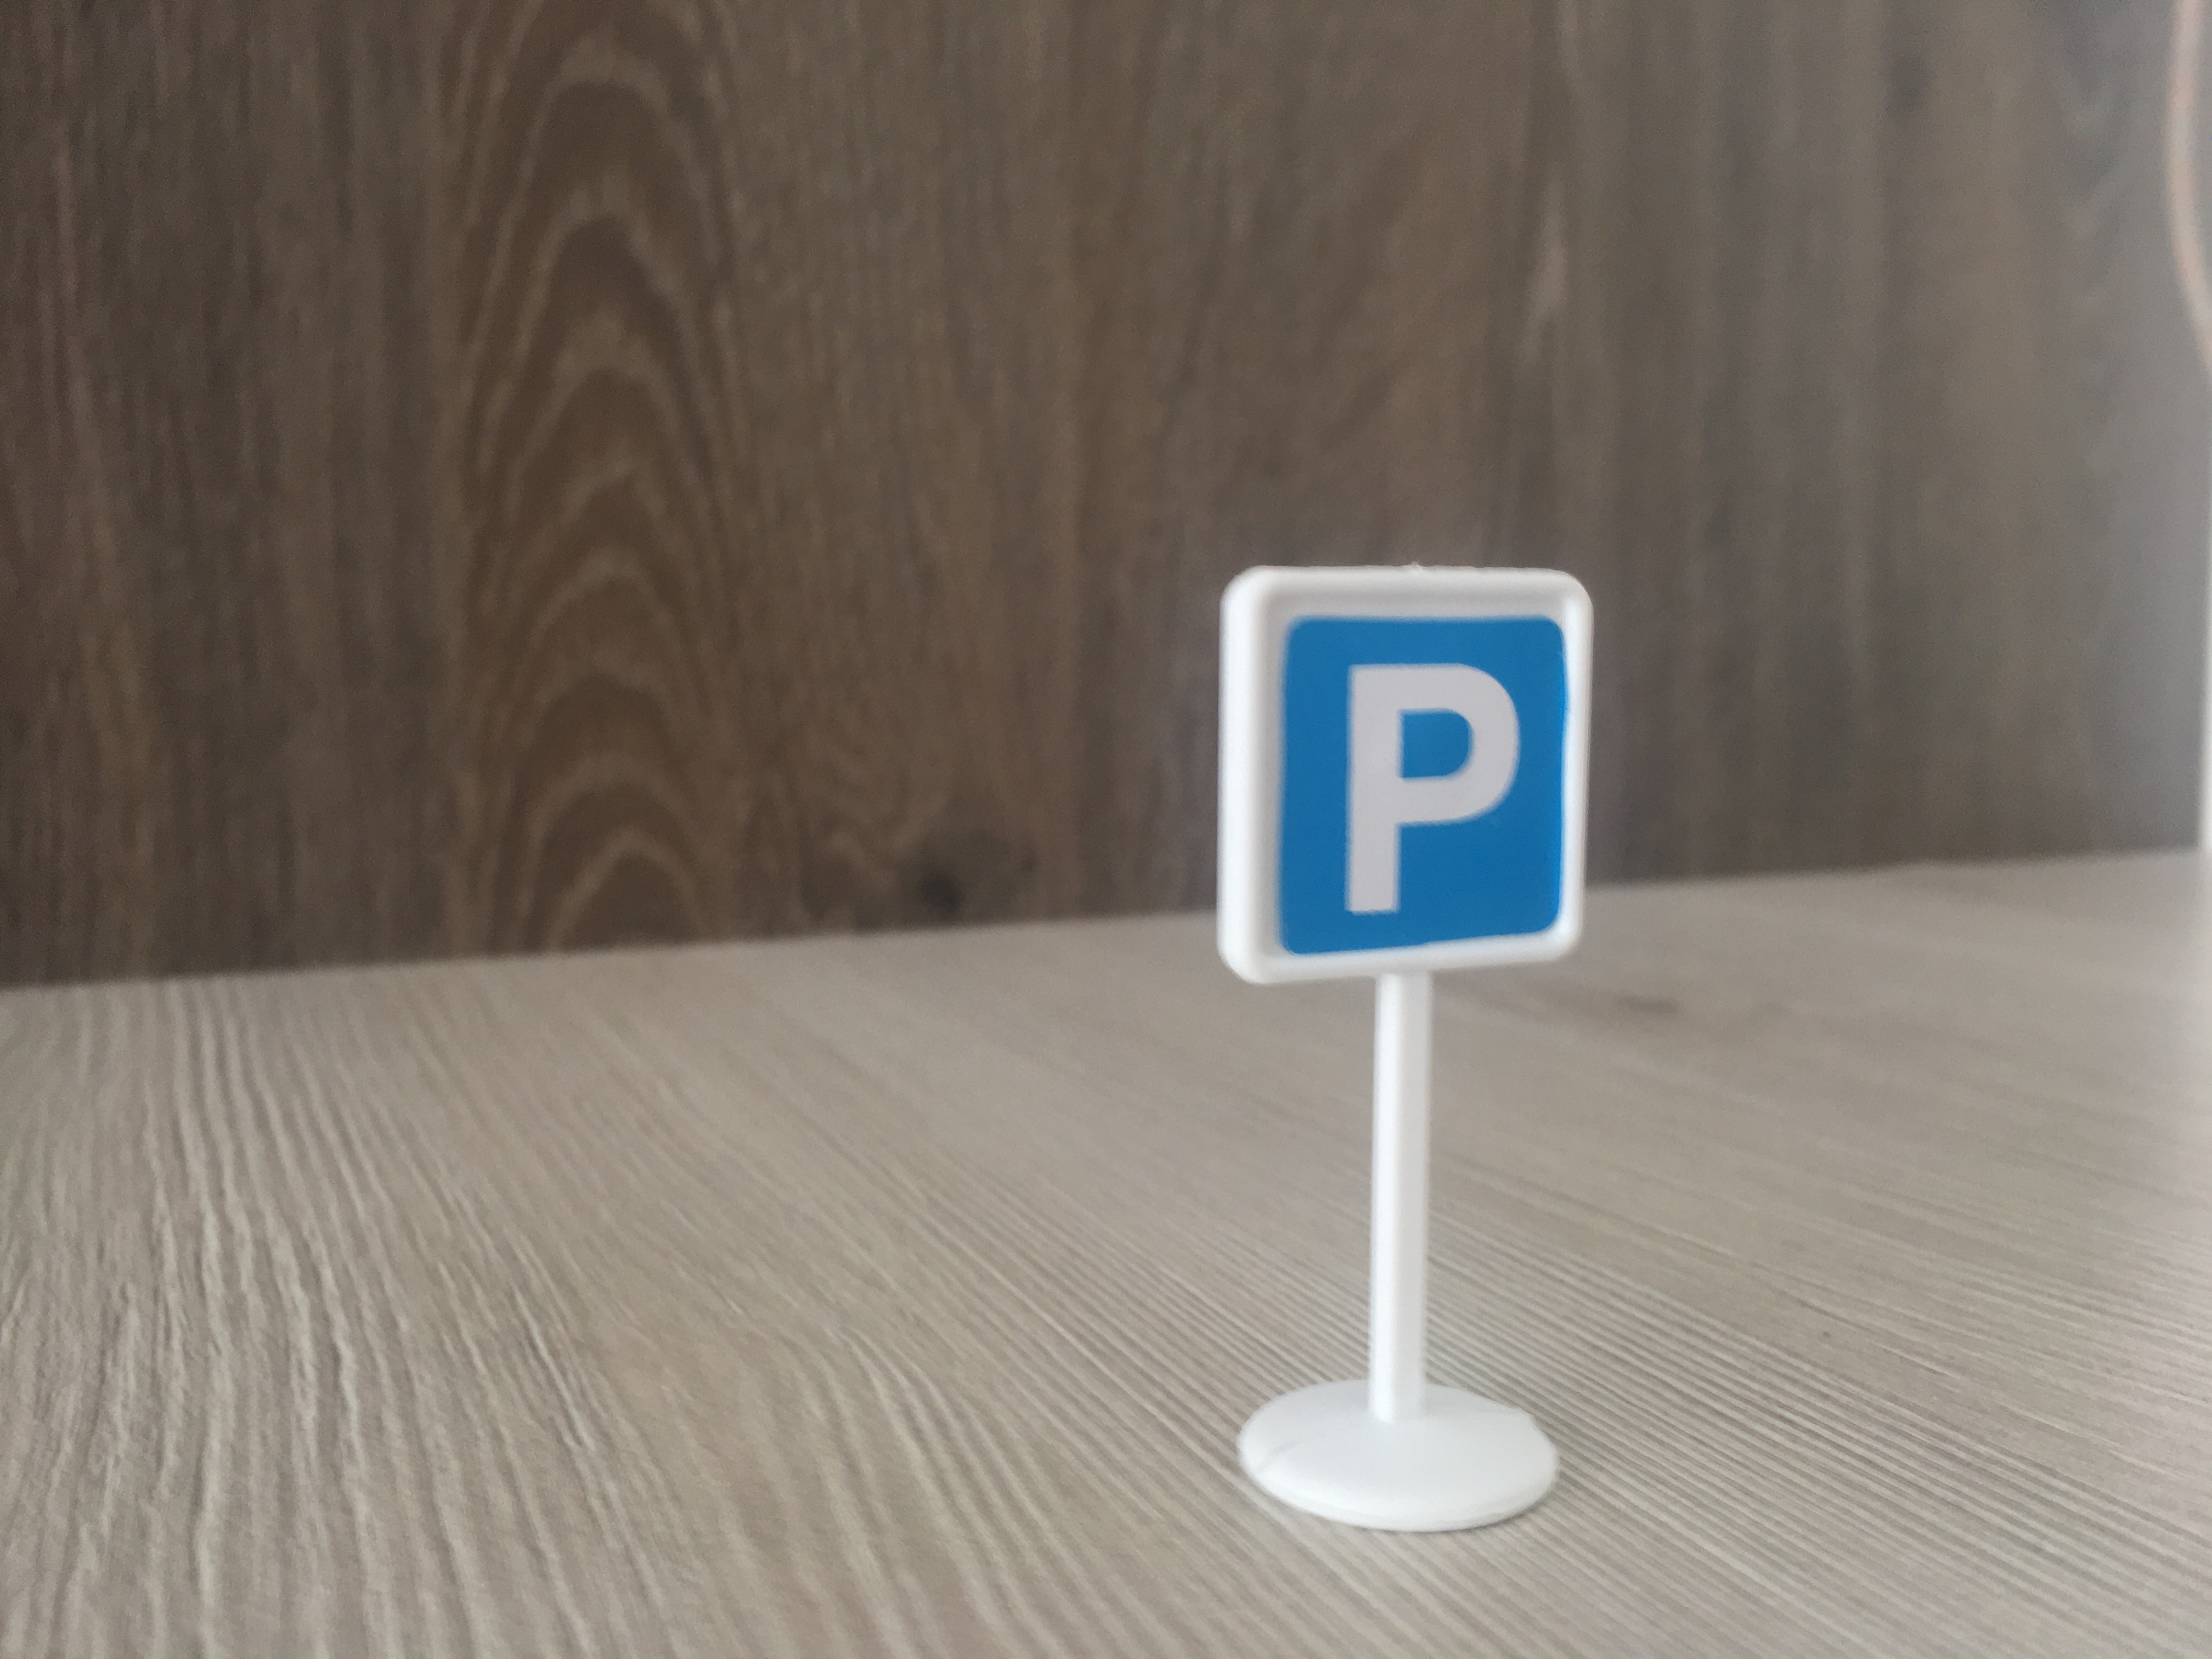parking: (1205, 565, 1594, 990)
